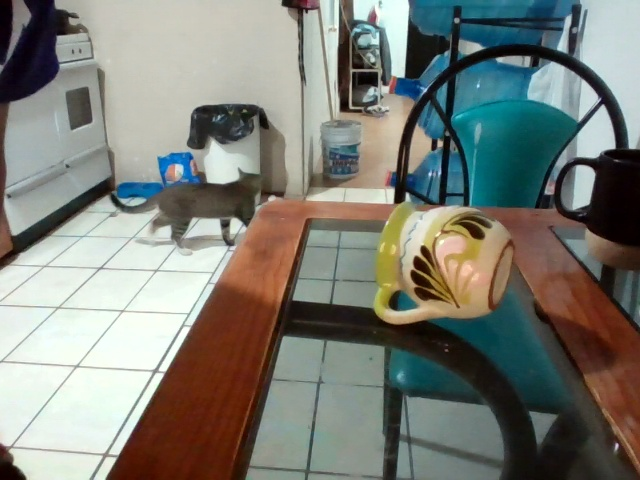taza: (554, 147, 640, 248)
